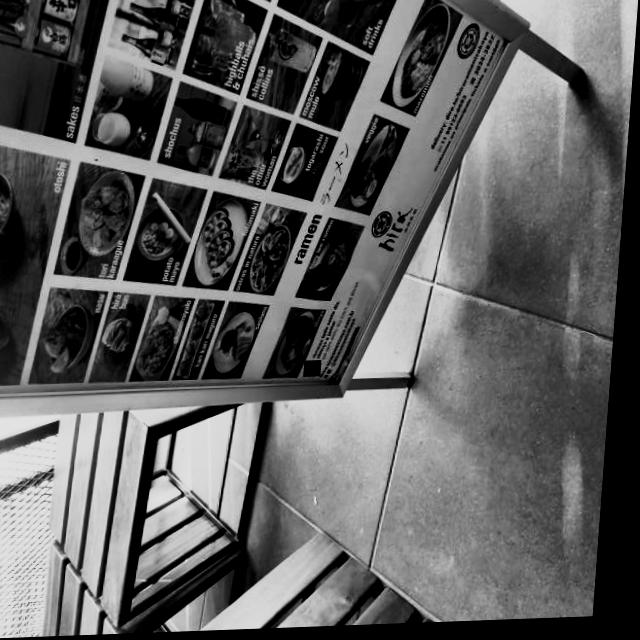qr_code: (309, 362, 327, 378)
